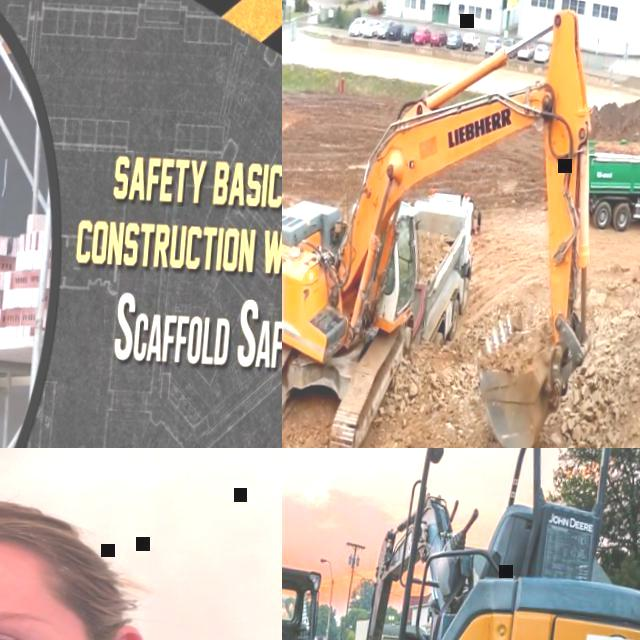machinery: (282, 0, 621, 448), (323, 448, 640, 640), (403, 185, 485, 348), (282, 558, 373, 640), (581, 127, 640, 237)
no_helmet: (0, 480, 115, 600)
person: (0, 464, 282, 640), (387, 266, 396, 290)
vehicle: (349, 14, 368, 36), (462, 30, 482, 50), (363, 18, 383, 38), (486, 35, 504, 55), (446, 29, 464, 49), (414, 24, 432, 44), (534, 42, 551, 63), (502, 36, 518, 58), (517, 41, 535, 60), (431, 27, 448, 47), (378, 18, 395, 38), (401, 23, 418, 42), (388, 21, 405, 40)
